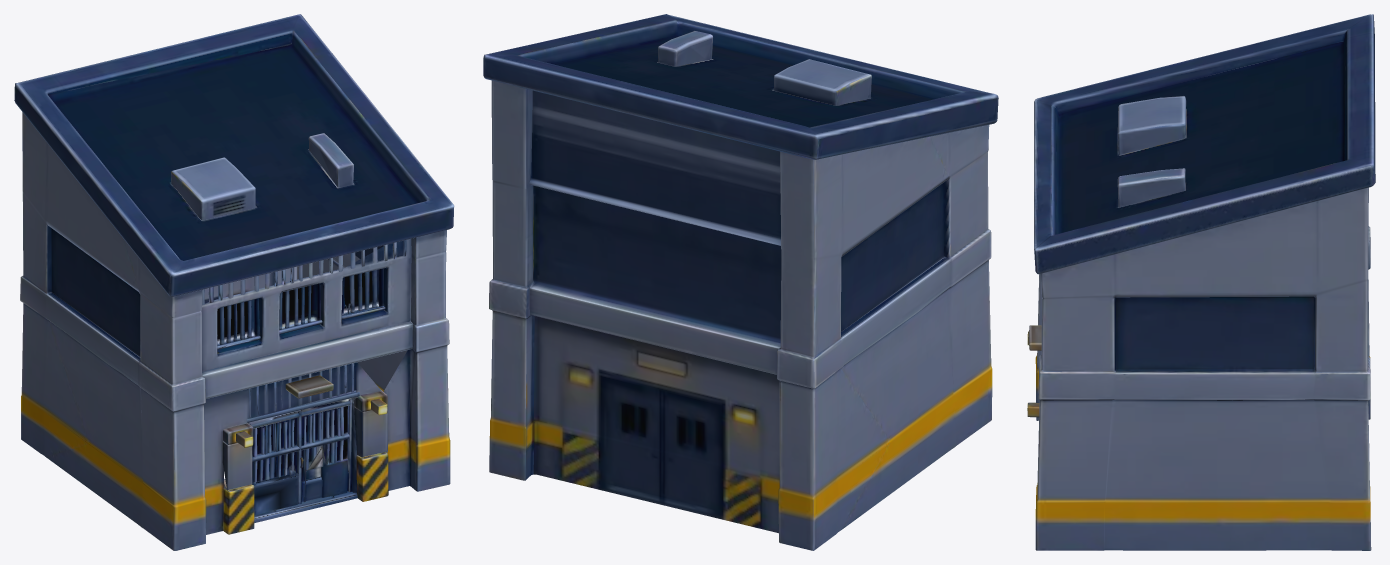
Rendered from entrance.glb.
3 renders of one model, left to right at view 1: azimuth 30°, elevation 25°; view 2: azimuth 150°, elevation 25°; view 3: azimuth 270°, elevation 25°, orthographic. The views are drawn at different scales.
Visible parts, largest first — view 1: meshy-entrance; view 2: meshy-entrance; view 3: meshy-entrance.
Boxes of the visible parts, x1,y1,x2,y2 form: meshy-entrance: (14,14,454,550); meshy-entrance: (483,14,998,550); meshy-entrance: (1027,14,1375,550).
Bounding box in the file's own units: 6.74 × 8 × 6.51.
1 material, 1 textured.
